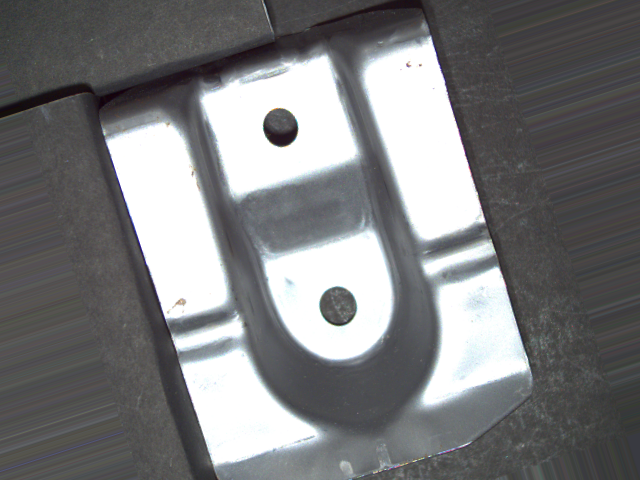defect: (314, 283, 359, 329)
